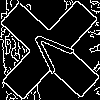V: (25, 25, 82, 81)
